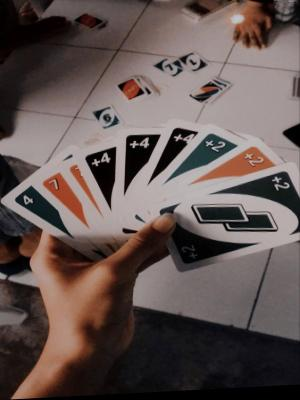-2: (187, 198, 290, 247), (241, 148, 270, 177), (200, 135, 229, 161), (270, 174, 296, 200)
num_4: (13, 190, 40, 212)
num_7: (45, 174, 69, 198)
wild-4: (167, 128, 197, 148)
